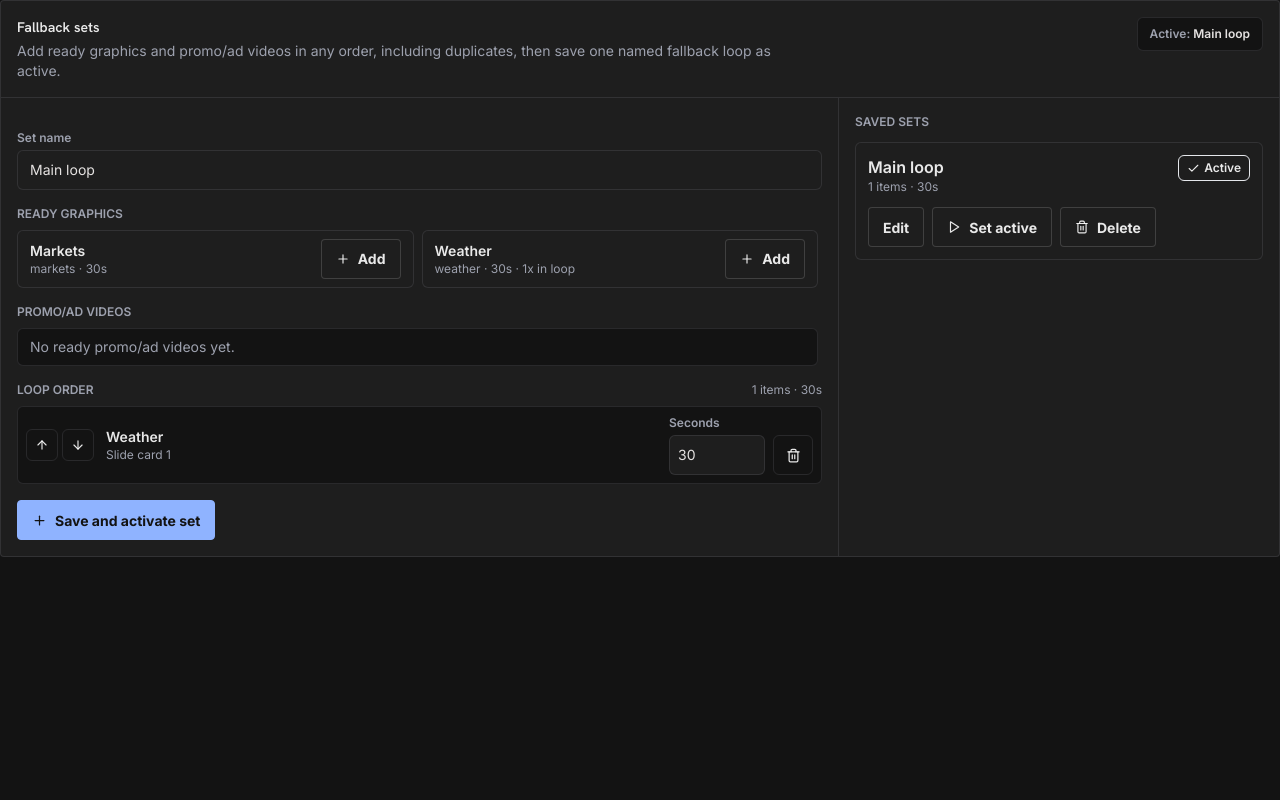
Test case: FallbackSetsPanel › removes only the selected duplicate instance from loop order
Click the button with aria-label "Add Markets to fallback loop" at (361, 259), box x1=321 y1=239 x2=400 y2=279
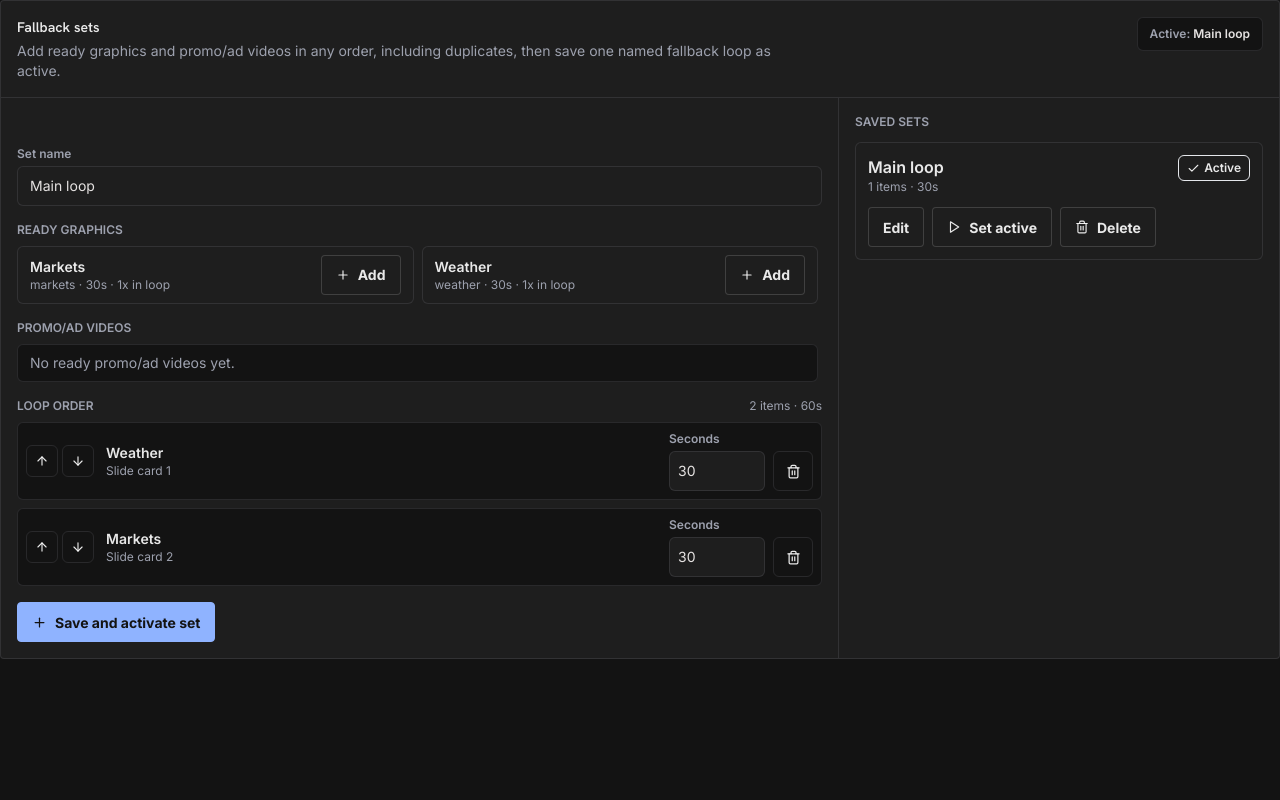
Click the button with aria-label "Add Markets to fallback loop" at (361, 275), box x1=321 y1=255 x2=400 y2=295
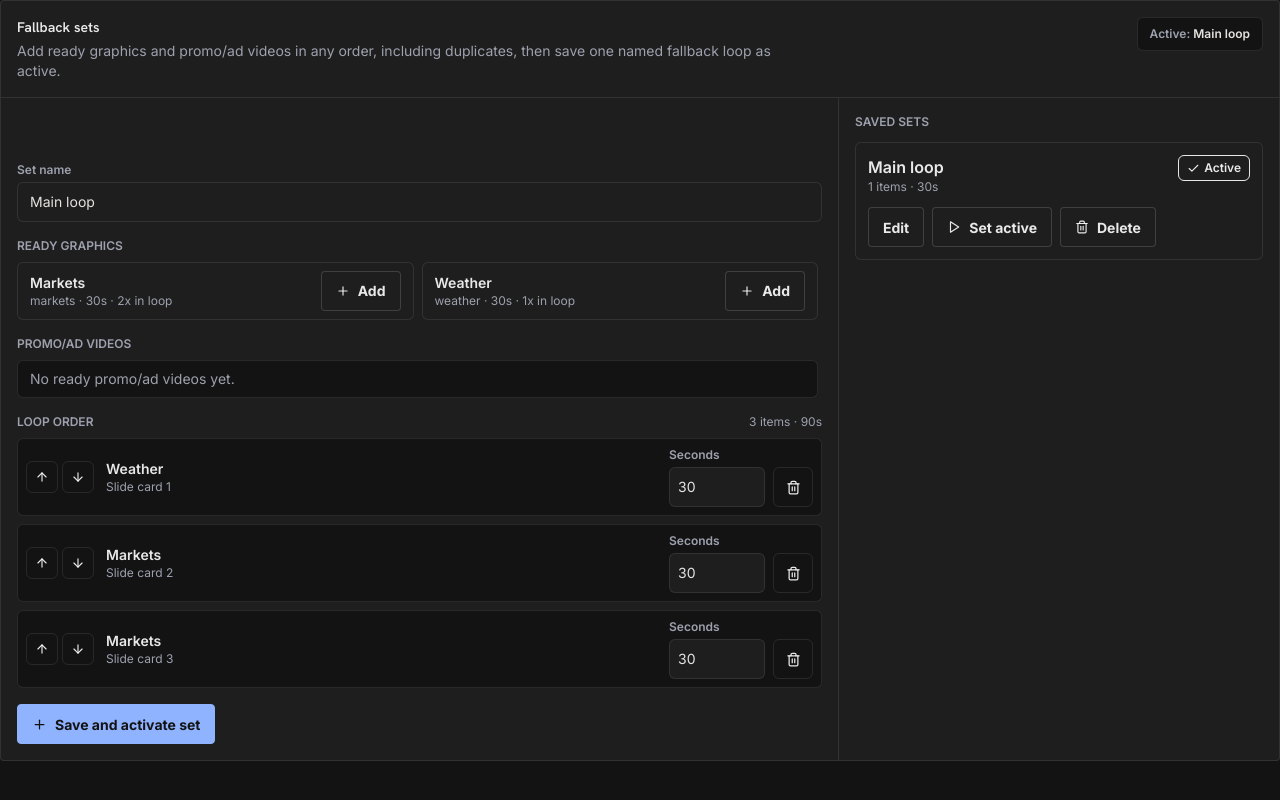
Click the 2nd button named "Remove item from fallback set" at (793, 573), box x1=773 y1=553 x2=813 y2=593
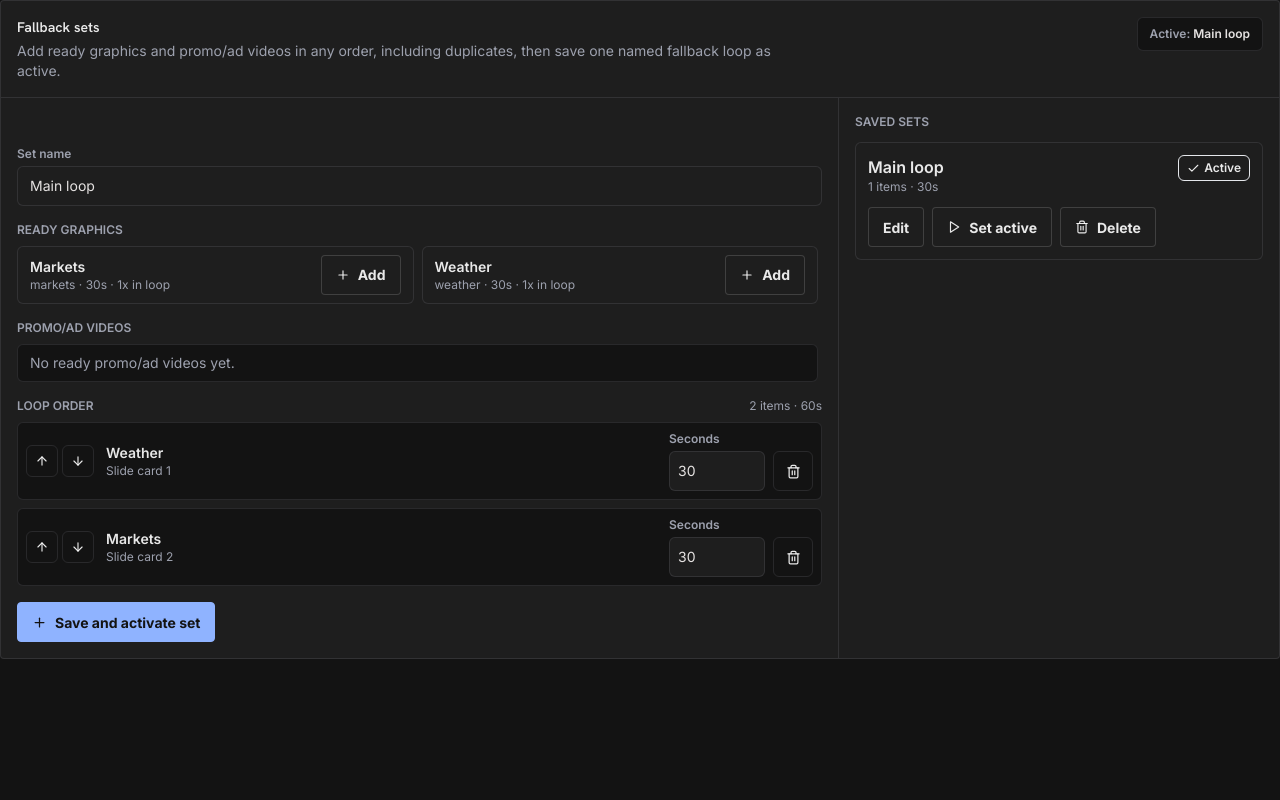
Now the text "2x in loop" is gone
